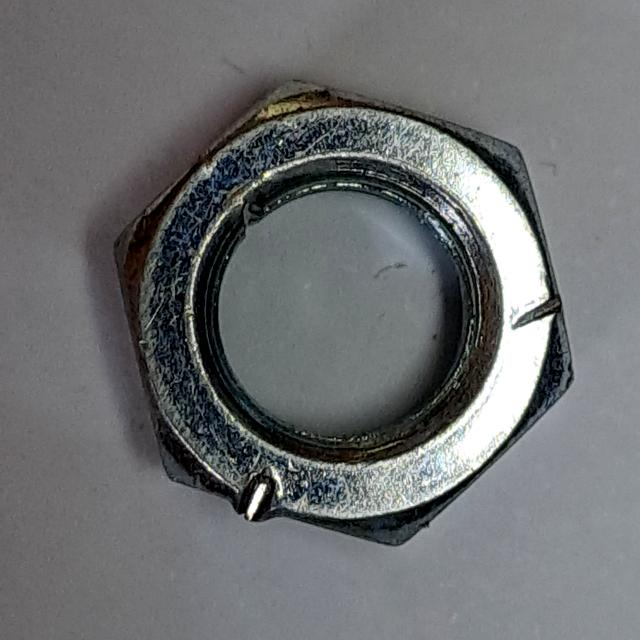Scratches: (102, 70, 595, 570)
